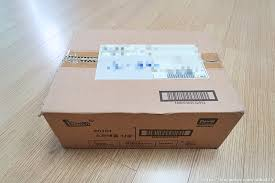undamaged: (37, 28, 246, 150)
